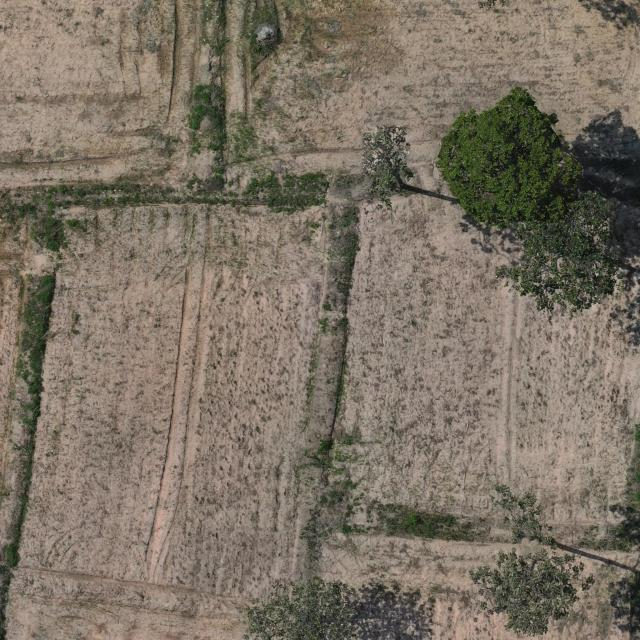Tree: (436, 87, 585, 223), (468, 480, 597, 637), (494, 190, 623, 316), (240, 577, 360, 640), (360, 123, 412, 223)
